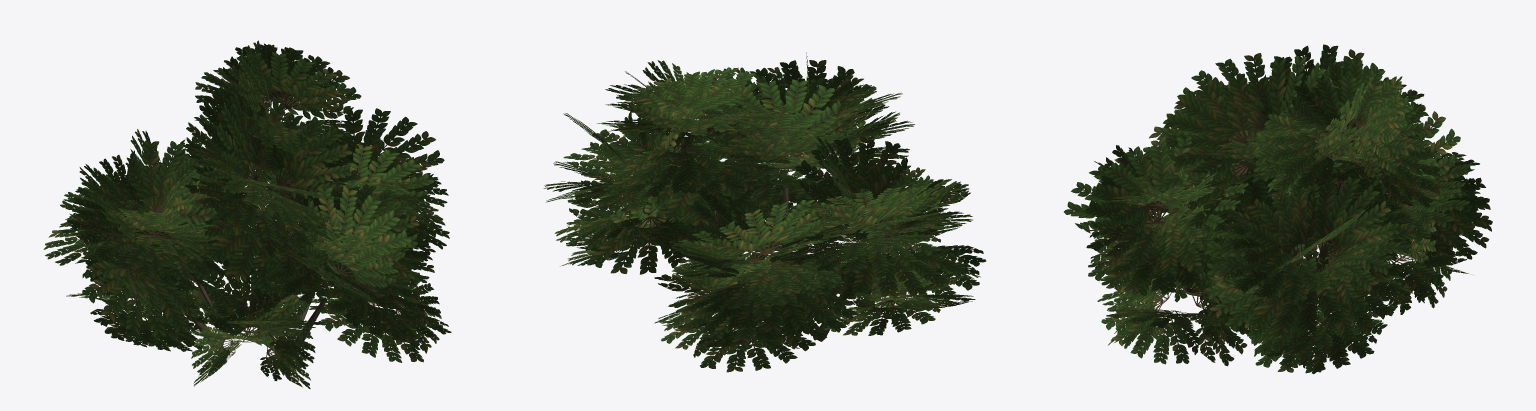
Rendered from ENV_Bush_04.fbx.
3 renders of one model, left to right at view 1: azimuth 30°, elevation 25°; view 2: azimuth 150°, elevation 25°; view 3: azimuth 270°, elevation 25°, orthographic. The views are drawn at different scales.
Visible parts, largest first — view 1: ENV_Bush_04_LOD0; view 2: ENV_Bush_04_LOD0; view 3: ENV_Bush_04_LOD0.
Boxes of the visible parts, box(x1,y1,x2,y2) form: ENV_Bush_04_LOD0: box(43, 40, 451, 388); ENV_Bush_04_LOD0: box(543, 52, 986, 372); ENV_Bush_04_LOD0: box(1064, 44, 1492, 374).
Size of what is drawn, in the model's own units: 3.47 by 2.23 by 3.2.
